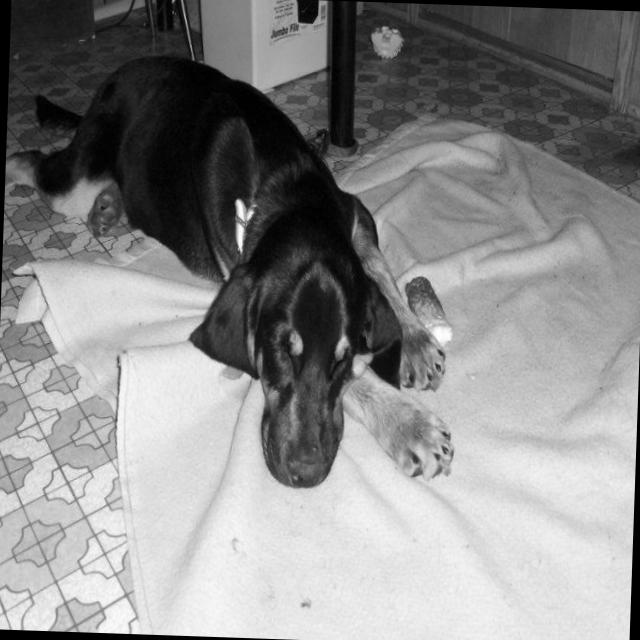laying down: (0, 38, 473, 498)
